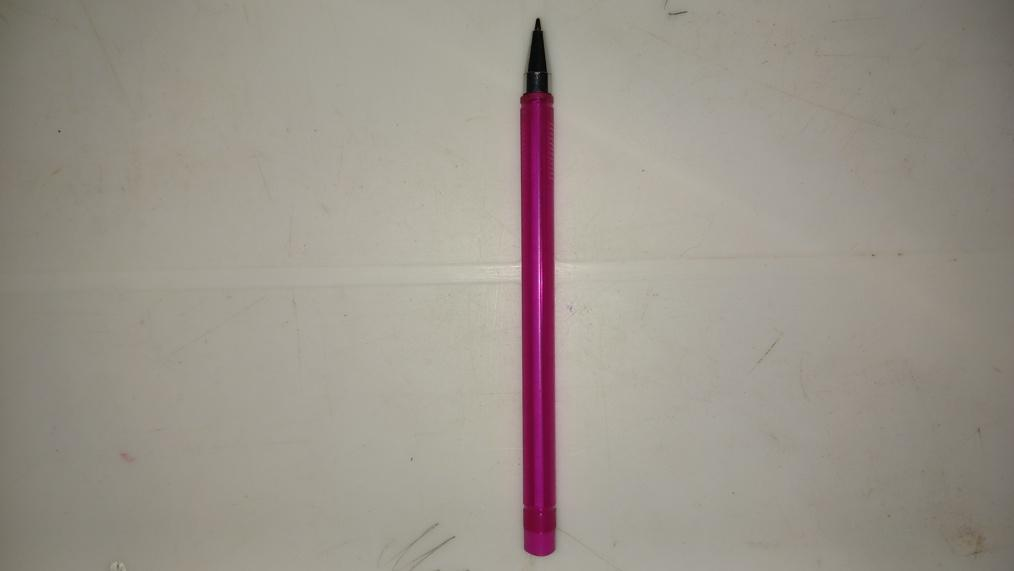pen: (522, 16, 557, 562)
